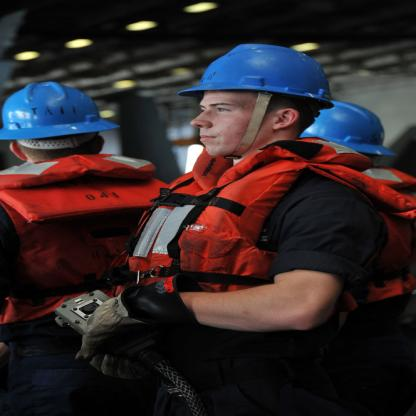Helmet: (178, 44, 332, 148), (0, 82, 125, 152), (296, 92, 410, 168)
